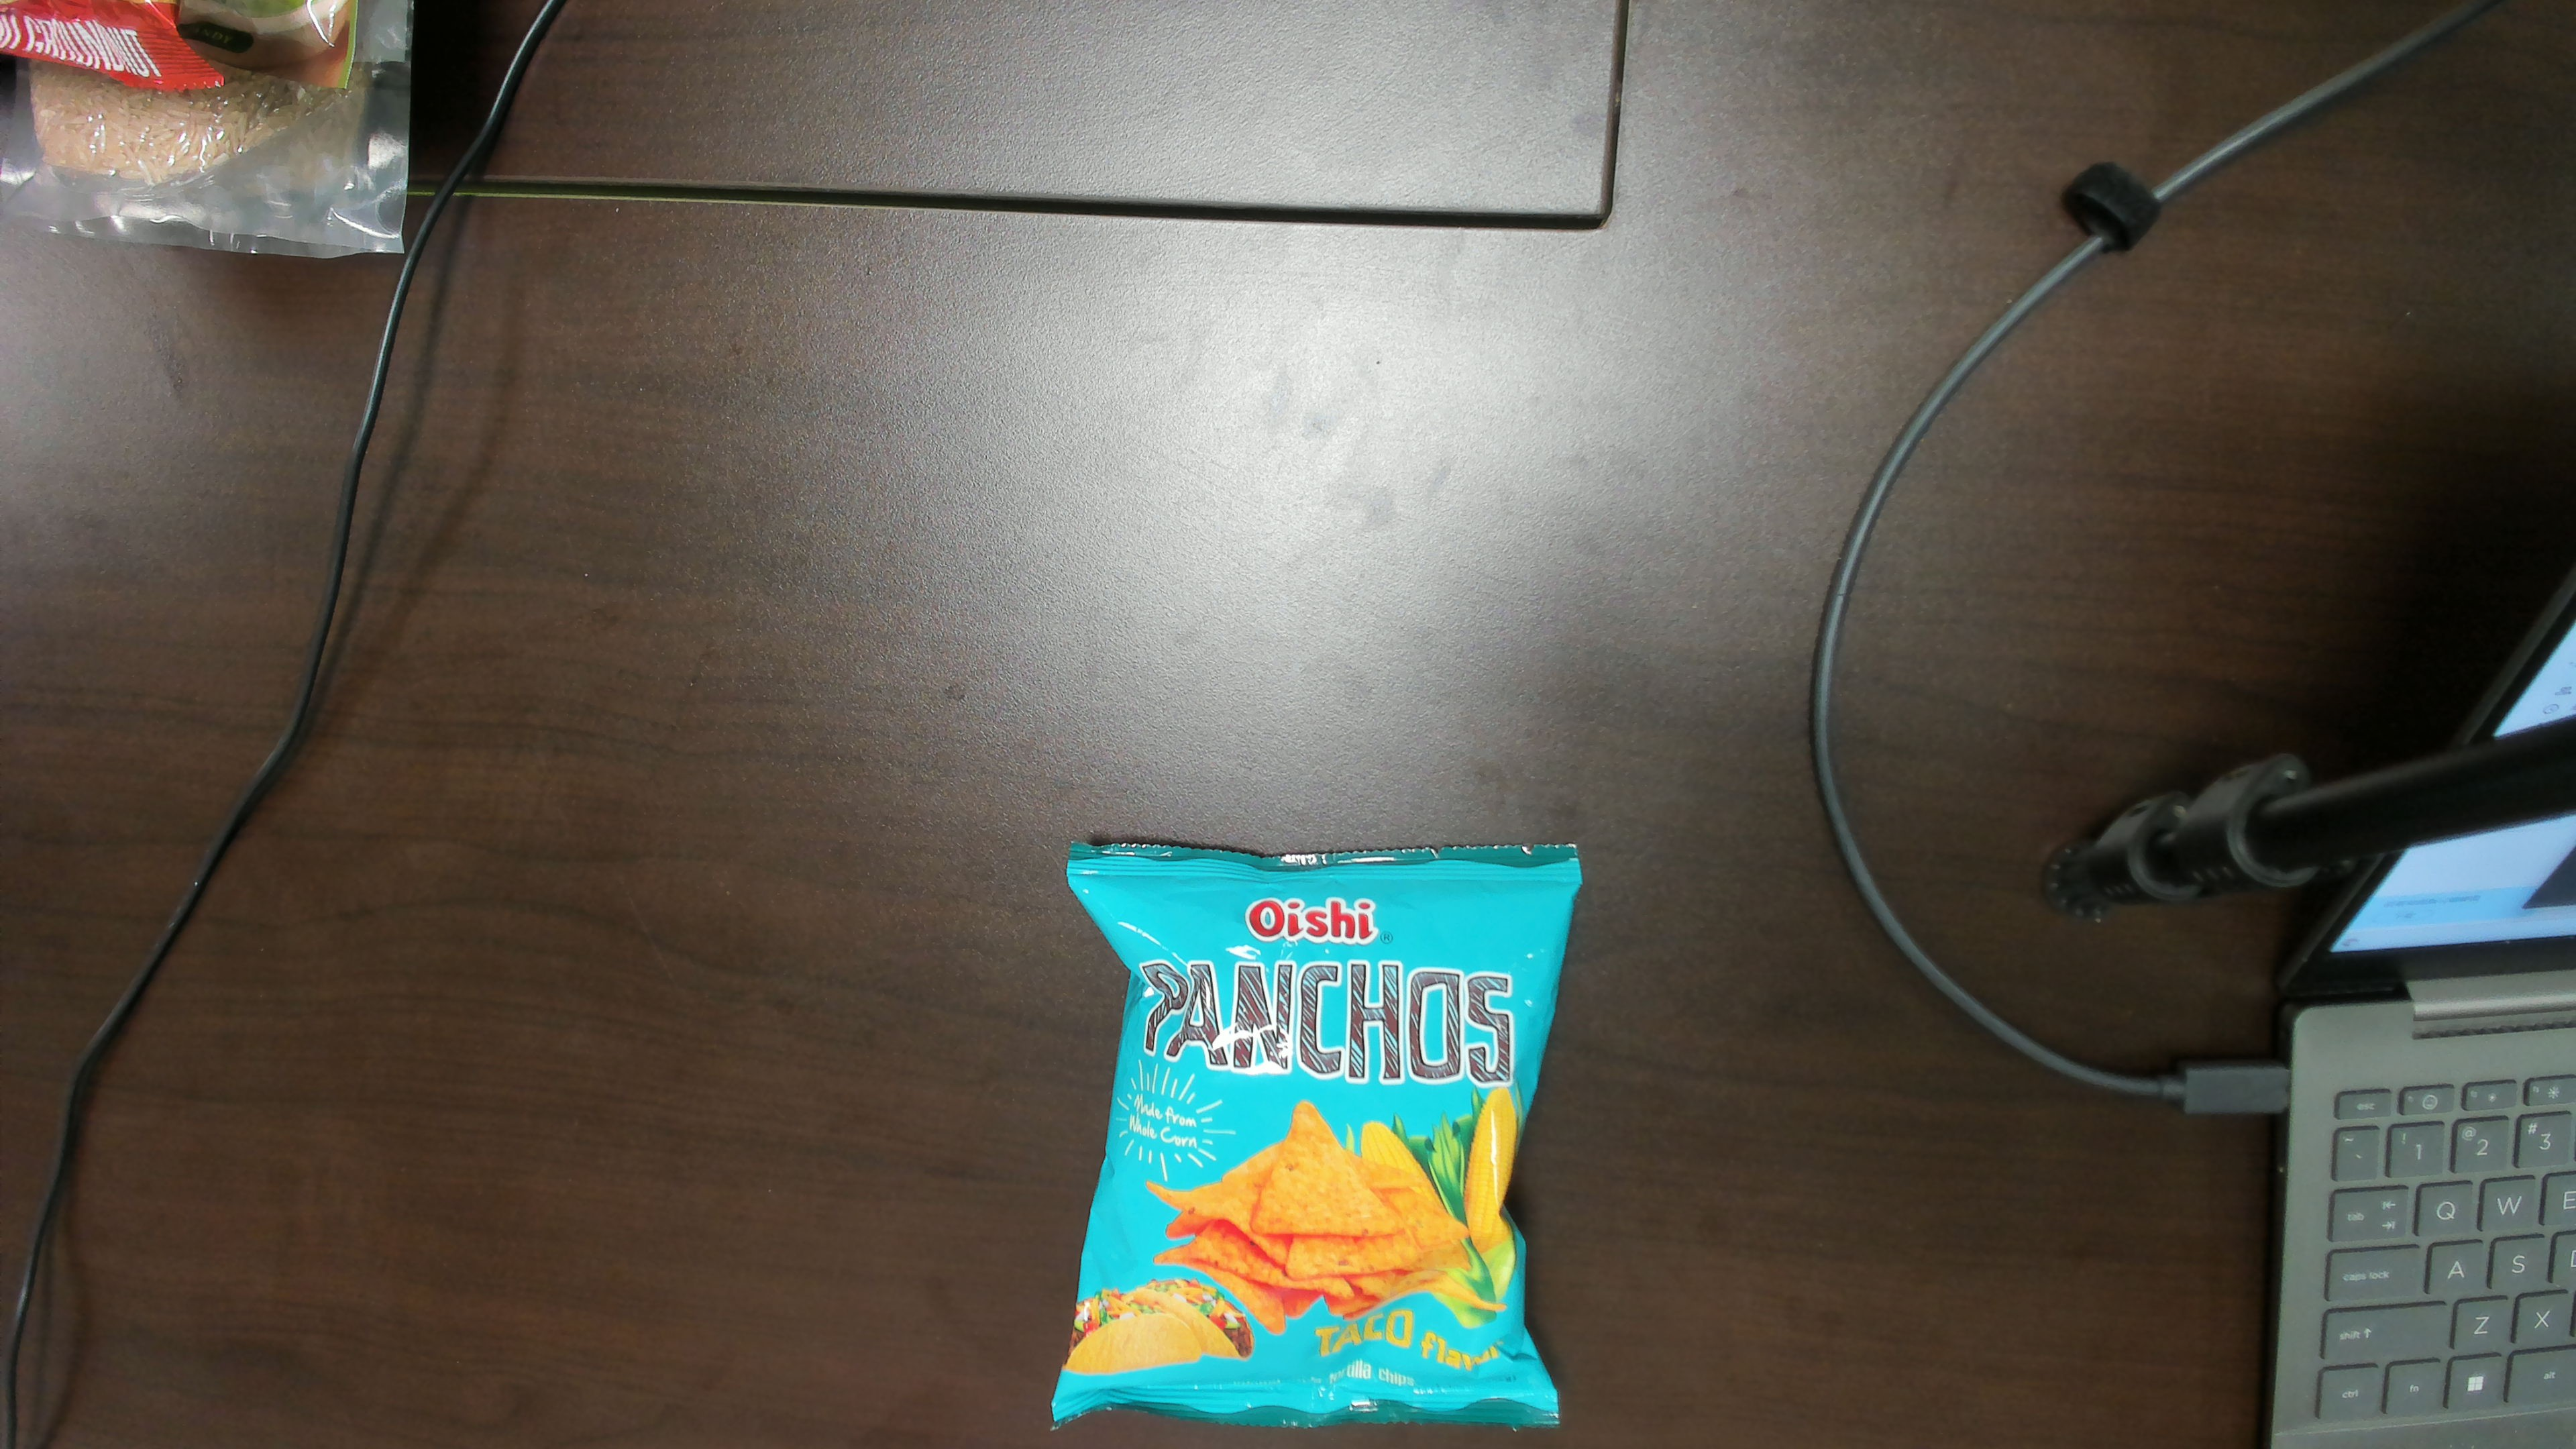PotatochipsKeropok_1-99g_NonHalal_NonHealthy: (1106, 874, 1525, 1407)
